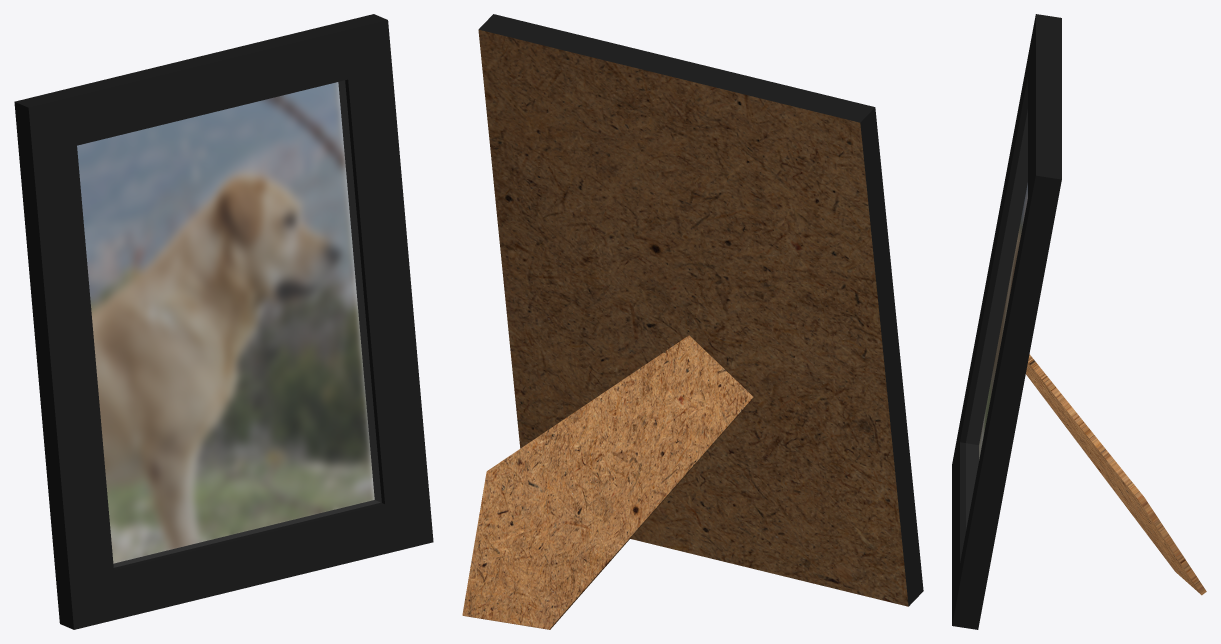
Rendered from Photo 2.FBX.
3 views of the same model, side by side, from view 1: azimuth 30°, elevation 25°; view 2: azimuth 150°, elevation 25°; view 3: azimuth 270°, elevation 25° (orthographic). The views are drawn at different scales.
Visible parts, largest first — view 1: Photo 2; view 2: Photo 2; view 3: Photo 2.
Boxes of the visible parts, x1,y1,x2,y2 form: Photo 2: (14,14,433,629); Photo 2: (462,14,923,629); Photo 2: (952,14,1206,629).
Bounding box in the file's own units: 214 × 280 × 142.
Materials: 2 (1 with a texture image).
